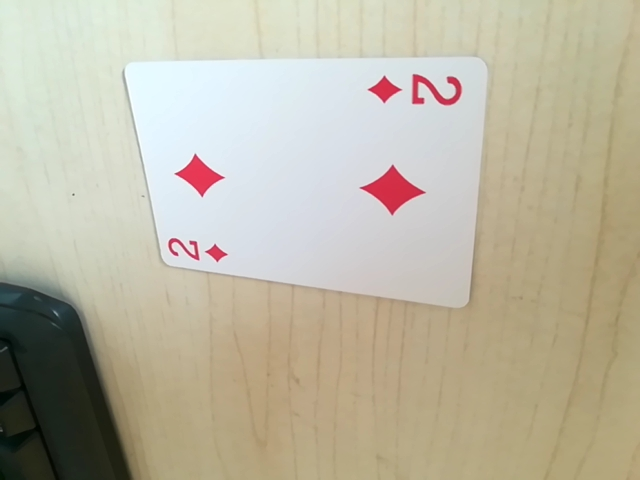fk 2: (366, 67, 468, 114), (163, 229, 233, 268)
